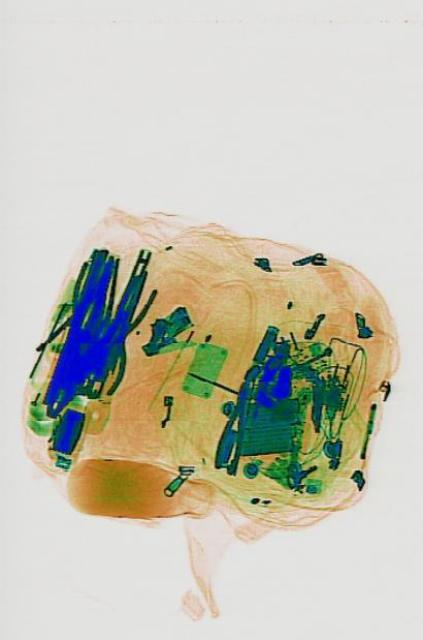Pliers: (211, 370, 256, 474)
